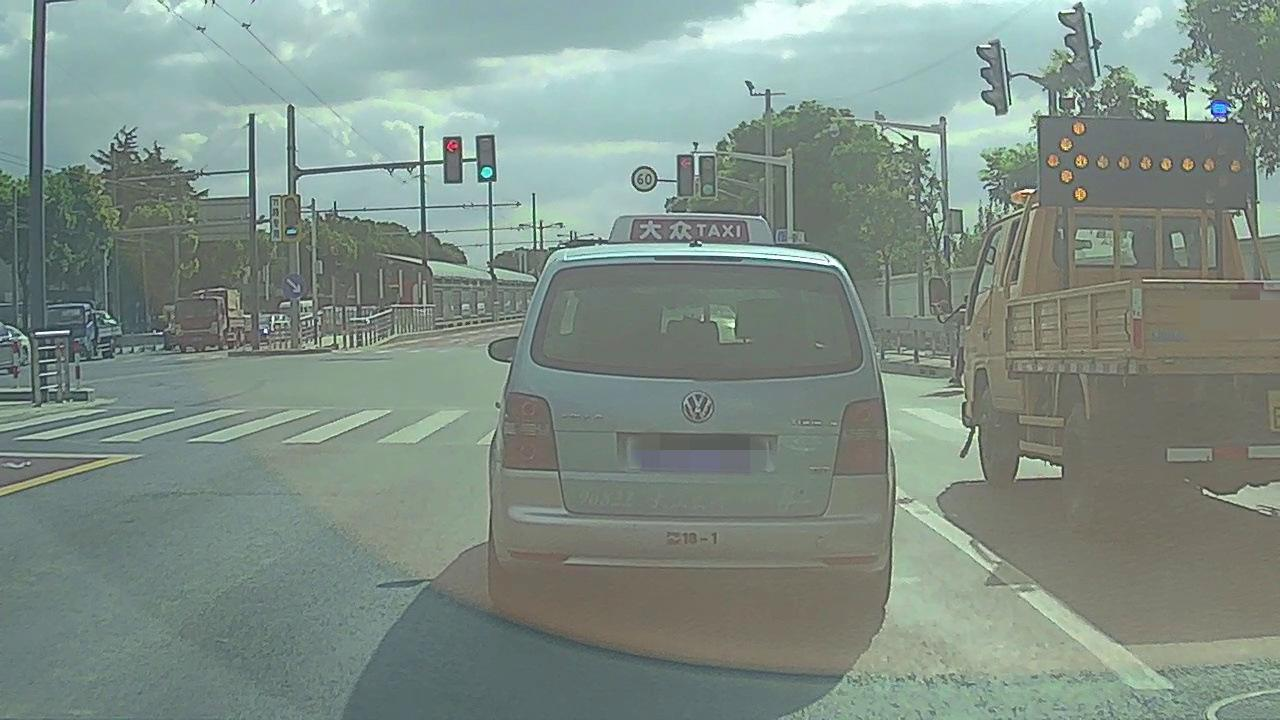traffic_light: (475, 136, 496, 181), (445, 138, 463, 183), (699, 156, 717, 200), (678, 155, 695, 198)
